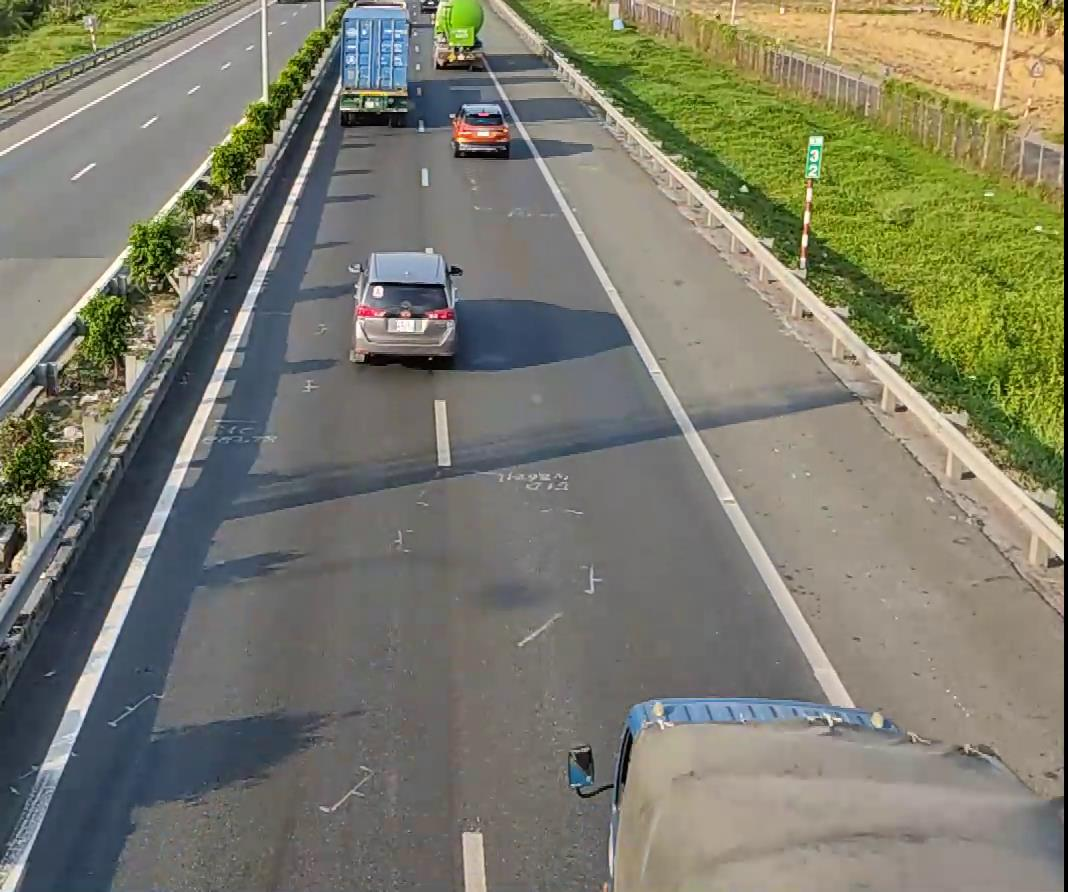car: (349, 247, 461, 364), (451, 100, 513, 159)
container: (335, 0, 414, 126)
truck: (593, 690, 1058, 889)
